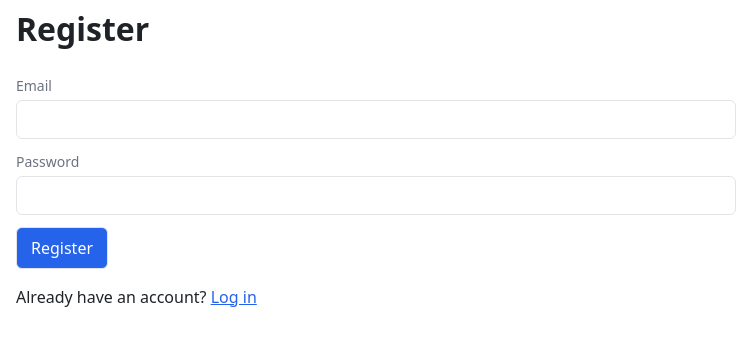
Scenario: RegisterPage › shows the backend error message and does not navigate on failure
Type "new@example.com" into the field labelled "Email" at {"x": 376, "y": 119}, box [16, 100, 736, 139]
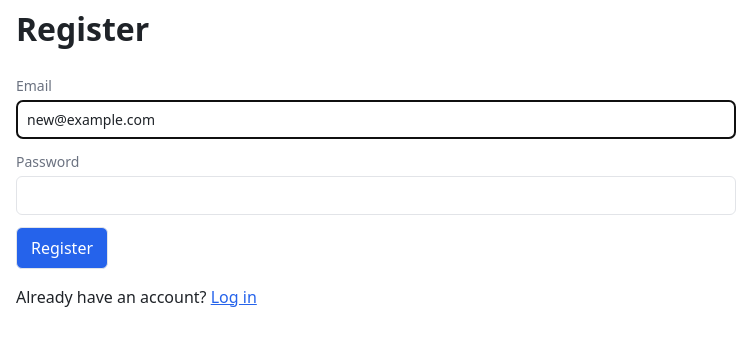
Type "password123" into the password field labelled "Password" at {"x": 376, "y": 195}, box [16, 176, 736, 215]
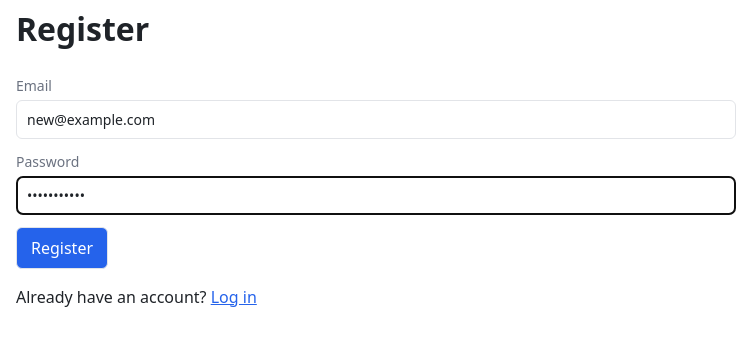
Click the button "Register" at {"x": 62, "y": 248}, box [16, 227, 108, 269]
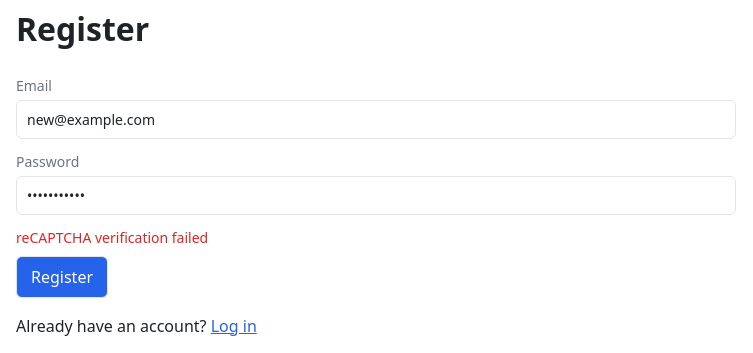
Check: the text "reCAPTCHA verification failed" is shown, box [16, 228, 208, 247]
